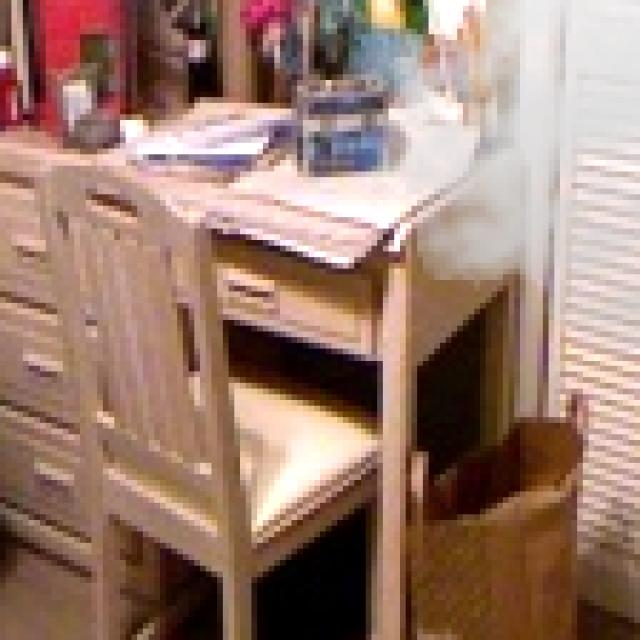smoke: (354, 0, 640, 360)
